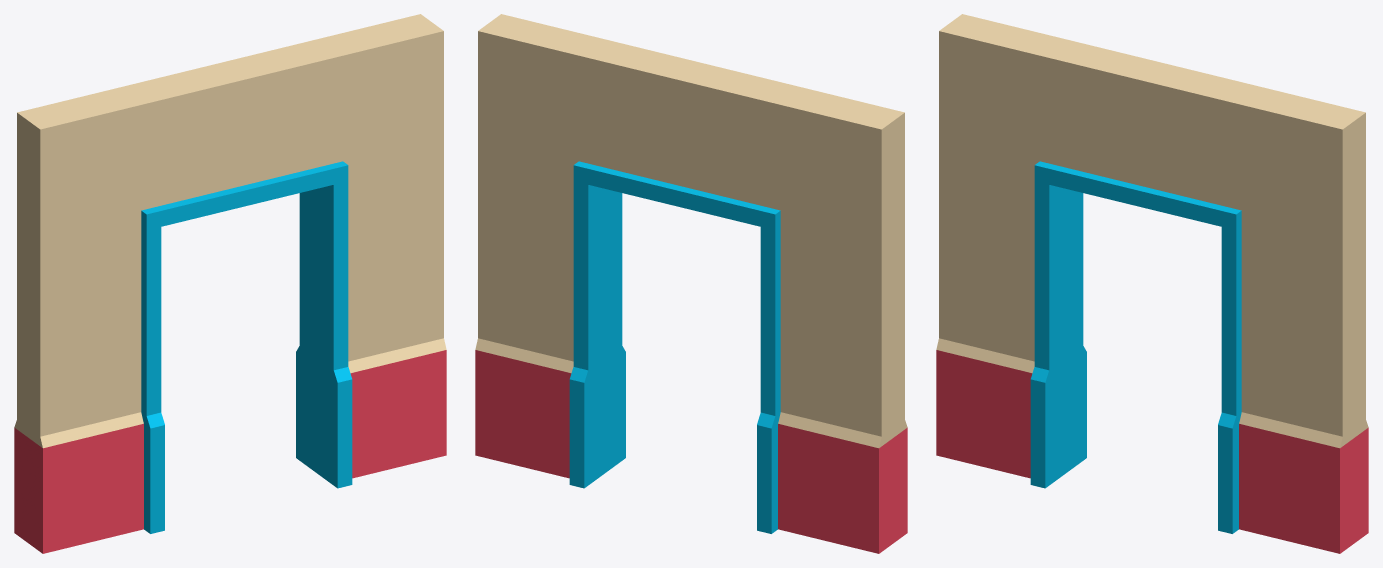
Rendered from Door.fbx.
3 renders of one model, left to right at view 1: azimuth 30°, elevation 25°; view 2: azimuth 150°, elevation 25°; view 3: azimuth 330°, elevation 25°, orthographic.
Visible parts, largest first — view 1: Door; view 2: Door; view 3: Door.
Boxes of the visible parts, x1,y1,x2,y2 form: Door: (14,14,446,553); Door: (475,14,907,553); Door: (936,14,1368,553).
Size of the model in its own units: 400 by 400 by 71.74.
